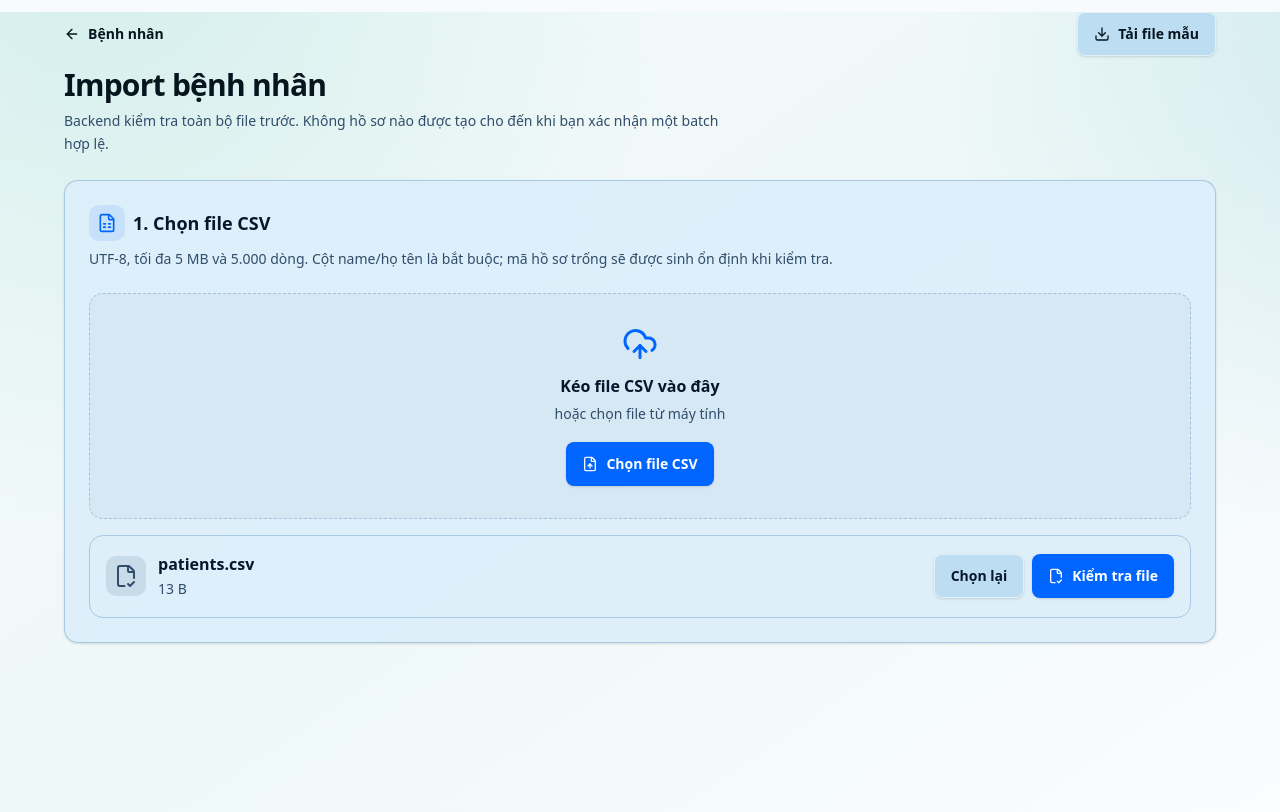
patient portal pages › fails closed when import validation returns a batch from another workspace
Earlier steps of the test are not shown.
Step 1. Click the button "Kiểm tra file" → (1103, 576), box [1032, 554, 1174, 598]
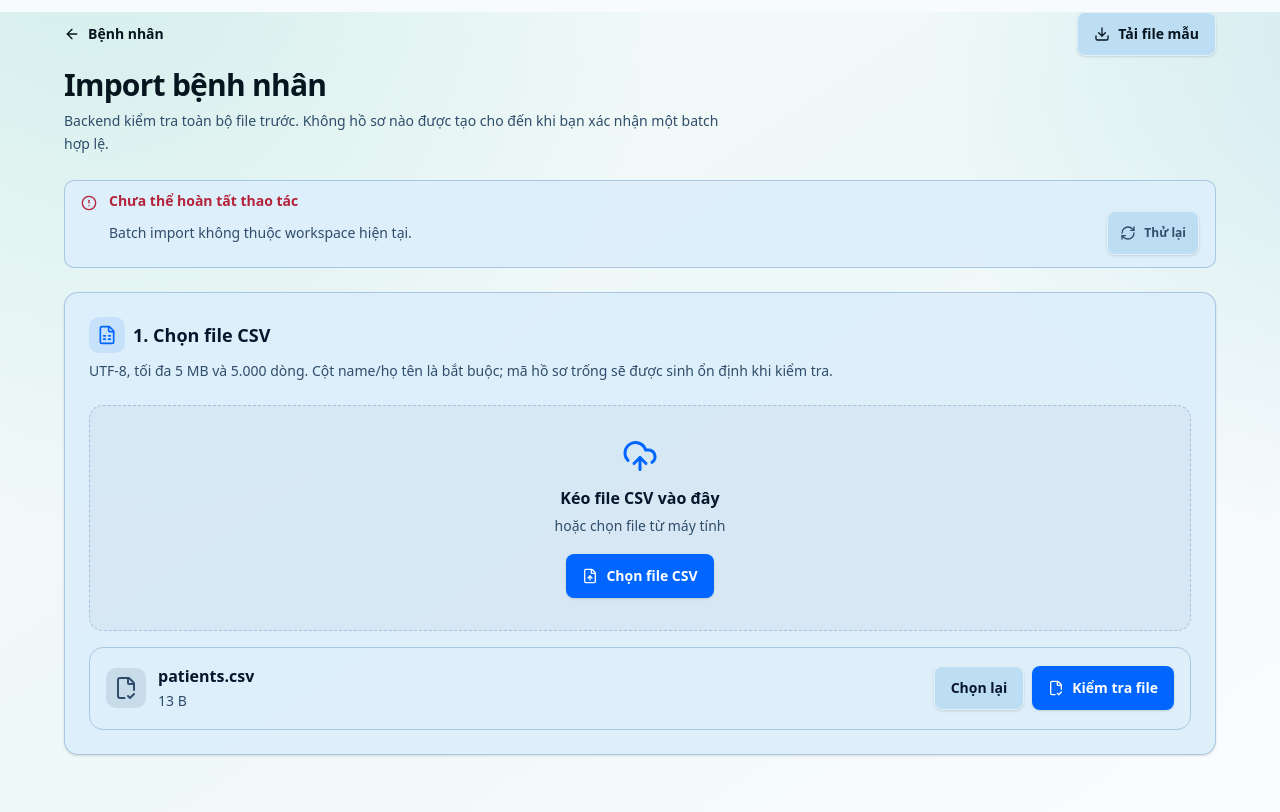
Expected: the text "Batch import không thuộc workspace hiện tại." is shown, [109, 222, 412, 242]
